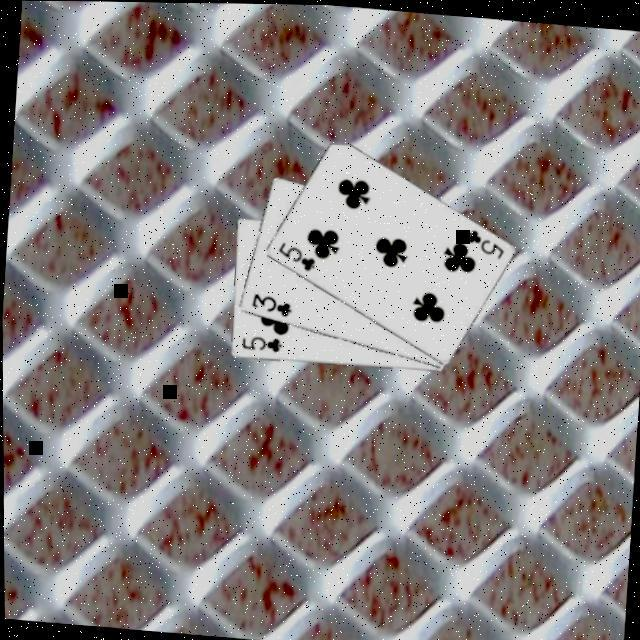3C: (248, 290, 296, 322)
5C: (274, 238, 320, 276), (462, 225, 508, 262), (240, 333, 286, 357)
